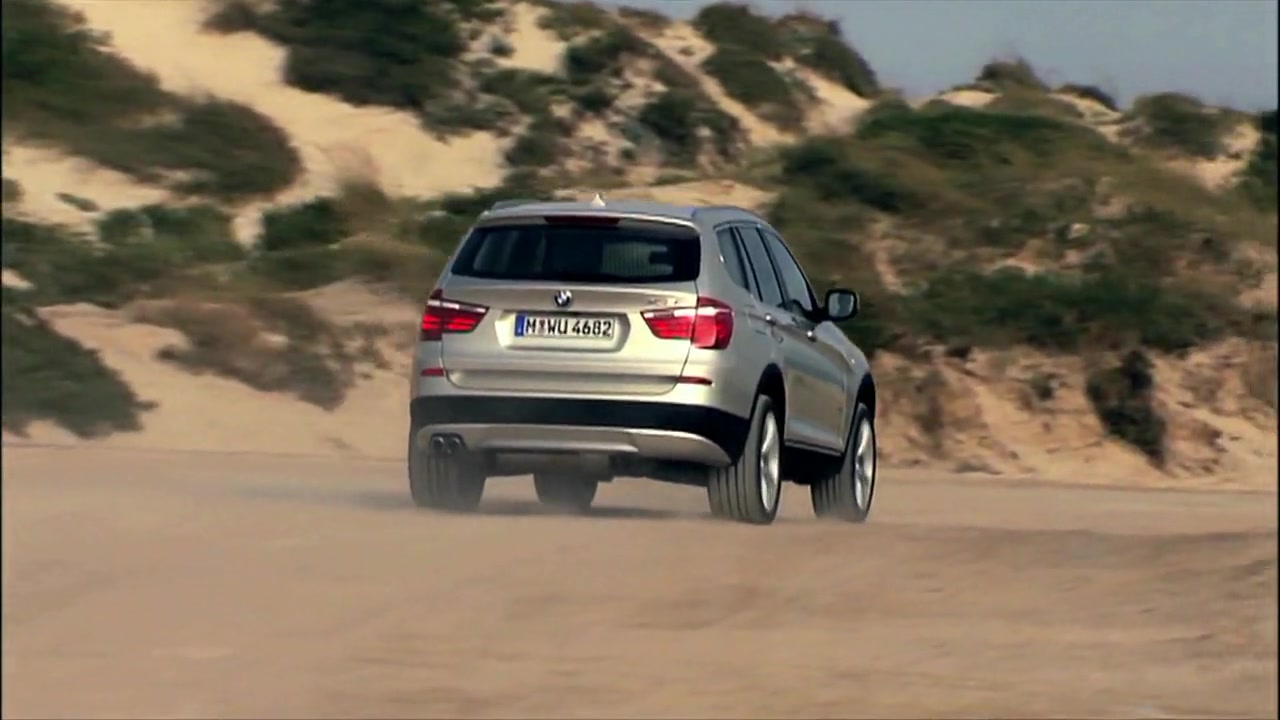car: (404, 192, 881, 525)
